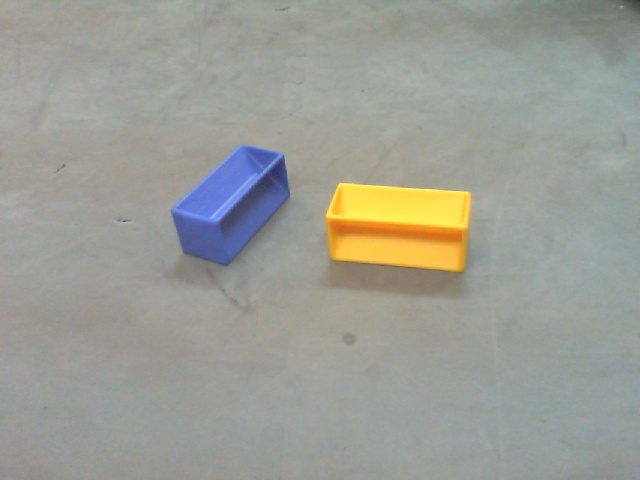BlueSample: (166, 141, 293, 267)
YellowSample: (324, 180, 473, 275)
